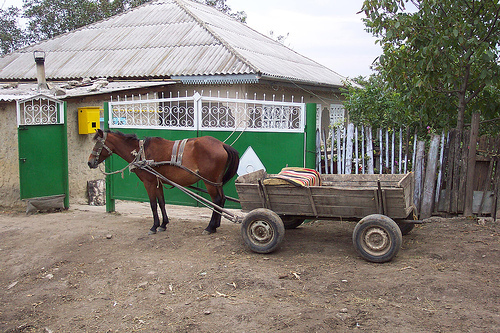horse: (87, 126, 240, 234)
